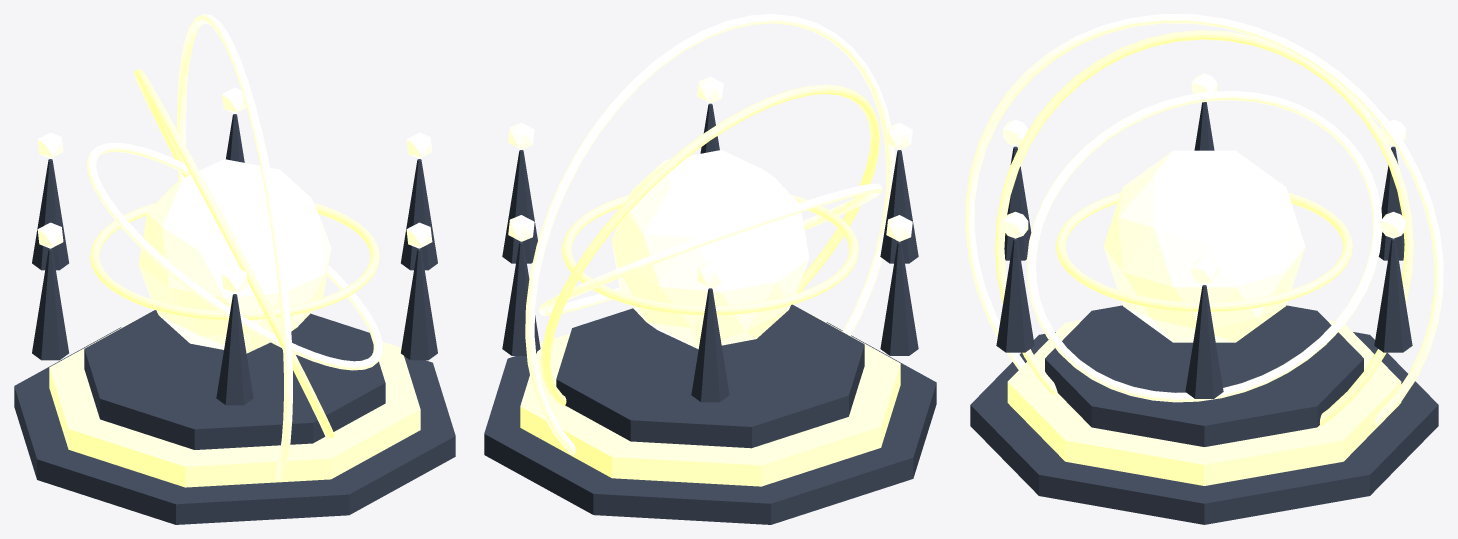
File: gpu-blender-v45.glb
3 views of the same model, side by side, from view 1: azimuth 30°, elevation 25°; view 2: azimuth 150°, elevation 25°; view 3: azimuth 270°, elevation 25° (orthographic). The views are drawn at different scales.
Visible parts, largest first — view 1: Cylinder.002, Cylinder, SovereignCore_zoth-os, Cylinder.001, Torus.003, Torus.001, Torus.002, Torus, Cone.004, Cone.003, Cone.005, Cone.002 (+7 smaller); view 2: Cylinder.002, SovereignCore_zoth-os, Cylinder, Cylinder.001, Torus.003, Torus.002, Torus.001, Torus, Cone.002, Cone.003, Cone.001, Cone.004 (+7 smaller); view 3: SovereignCore_zoth-os, Cylinder.002, Cylinder, Cylinder.001, Torus.003, Torus.001, Torus.002, Torus, Cone.001, Cone.005, Cone, Cone.004 (+3 smaller).
Boxes of the visible parts, x1,y1,x2,y2 form: Cylinder.002: (84, 310, 385, 449); Cylinder: (14, 327, 455, 524); SovereignCore_zoth-os: (138, 159, 331, 353); Cylinder.001: (49, 318, 420, 487); Torus.003: (177, 14, 292, 480); Torus.001: (87, 142, 382, 370); Torus.002: (134, 69, 334, 438); Torus: (90, 203, 379, 320); Cone.004: (216, 294, 253, 405); Cone.003: (32, 249, 68, 360); Cone.005: (401, 249, 437, 360); Cone.002: (32, 159, 68, 270); Cylinder.002: (556, 304, 864, 448); SovereignCore_zoth-os: (611, 150, 809, 349); Cylinder: (484, 322, 936, 524); Cylinder.001: (520, 313, 900, 486); Torus.003: (525, 14, 895, 455); Torus.002: (541, 84, 879, 406); Torus.001: (539, 183, 881, 315); Torus: (562, 195, 858, 315); Cone.002: (691, 288, 729, 402); Cone.003: (880, 242, 918, 355); Cone.001: (502, 242, 540, 355); Cone.004: (880, 150, 918, 263); SovereignCore_zoth-os: (1103, 150, 1305, 342); Cylinder.002: (1045, 305, 1363, 446); Cylinder: (970, 332, 1438, 524); Cylinder.001: (1007, 320, 1401, 485); Torus.003: (965, 14, 1443, 427); Torus.001: (1026, 91, 1382, 402); Torus.002: (995, 30, 1413, 426); Torus: (1056, 192, 1352, 311); Cone.001: (1374, 239, 1412, 352); Cone.005: (996, 239, 1034, 352); Cone: (1185, 285, 1223, 398); Cone.004: (1004, 146, 1031, 260).
Size of the model in its own units: 4.41 by 4.7 by 4.49.
